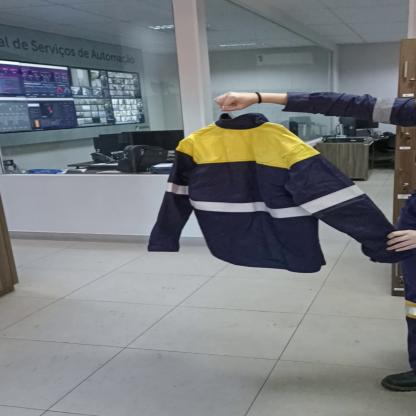C_eletrica: (148, 116, 404, 273)
